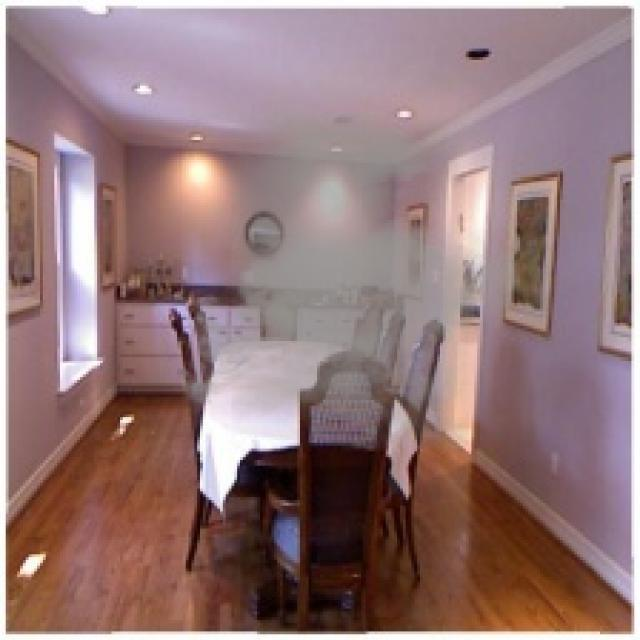Smoke: (166, 106, 534, 452)
